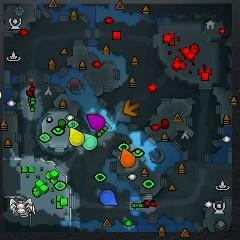p1: (100, 189, 118, 205)
p2: (82, 132, 97, 150)
p3: (87, 113, 105, 130)
p4: (68, 128, 84, 146)
p5: (120, 149, 137, 168)
x5: (123, 99, 140, 117)
